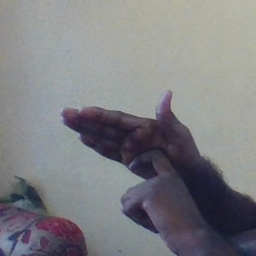R: (59, 85, 198, 224)
